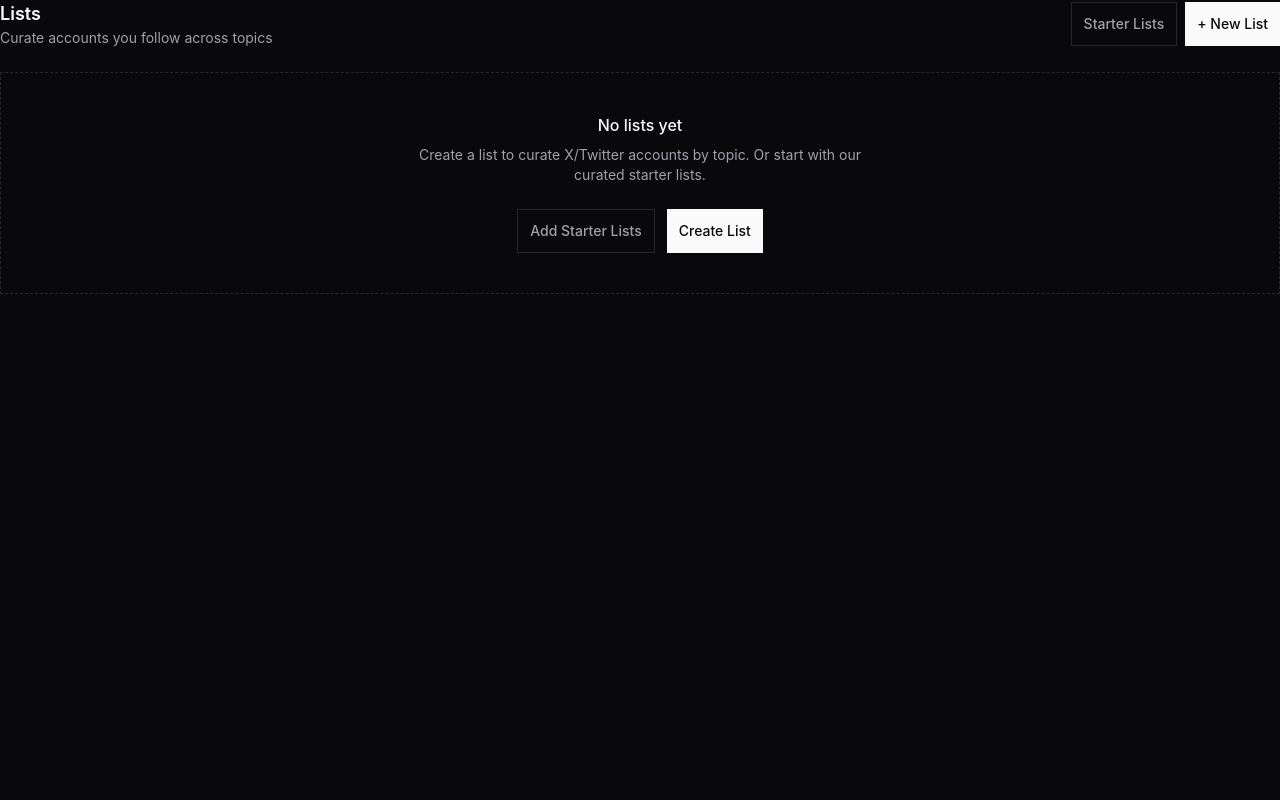
Test: ListsPage › opens new list modal and creates a list
Click the button "+ New List" at {"x": 1233, "y": 24}, box [1185,2,1279,46]
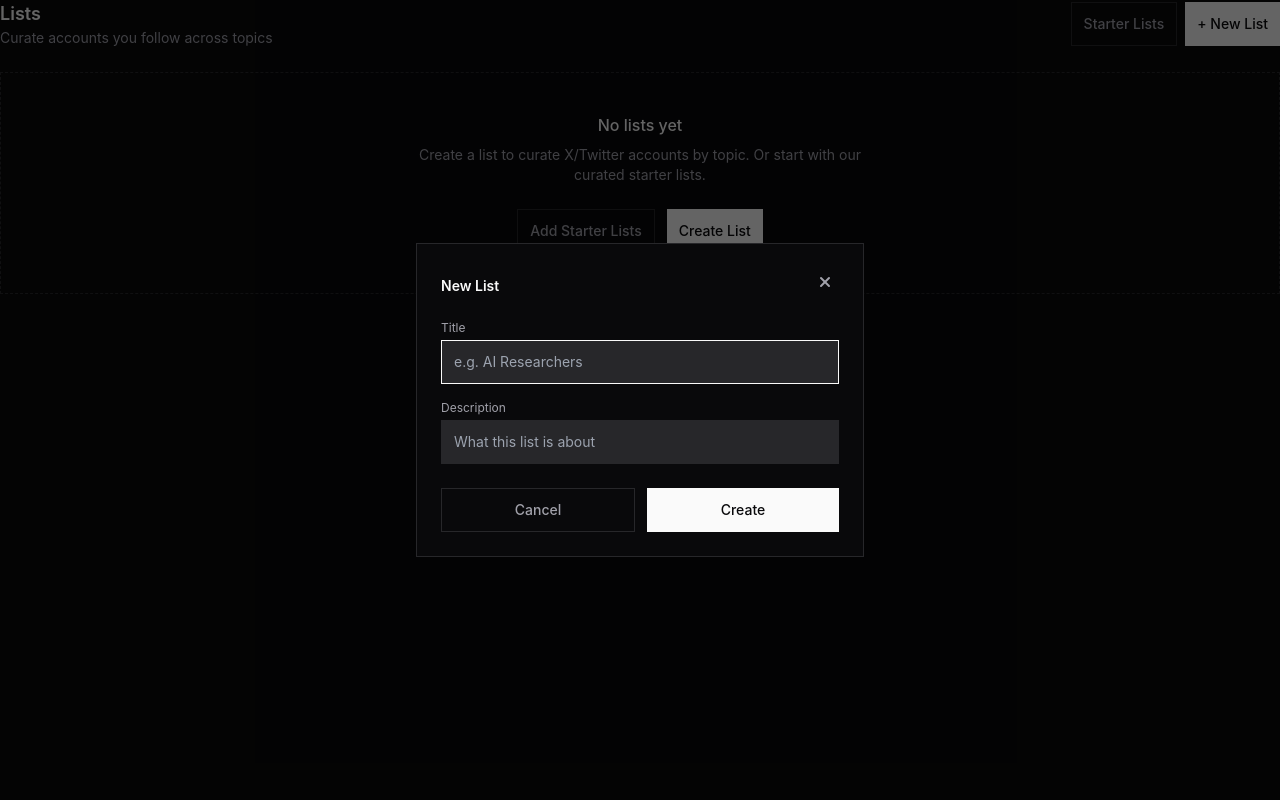
Expected: the heading "New List" is shown, [441,276,499,296]
Type "My Test List" into the field with test id "list-title-input" at {"x": 640, "y": 362}, box [441,340,839,384]
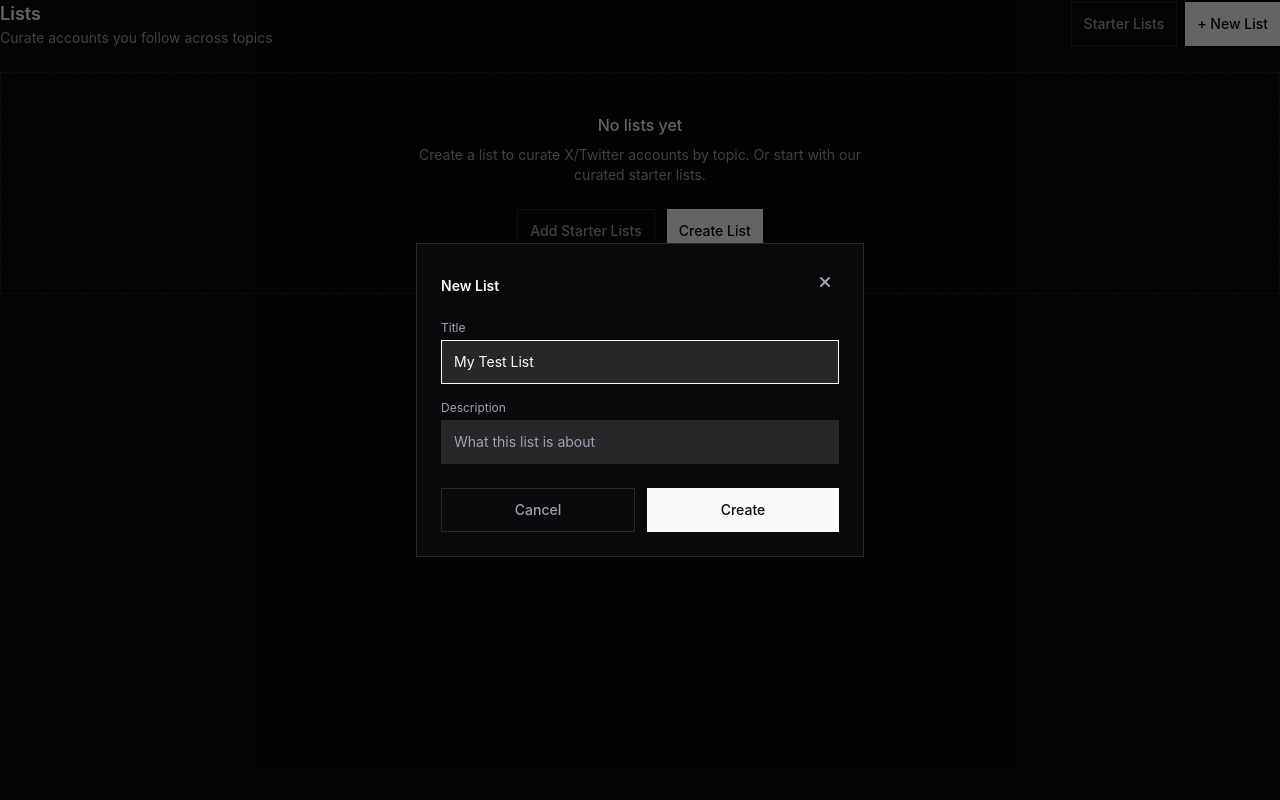
Click the button "Create" at {"x": 743, "y": 510}, box [647,488,839,532]
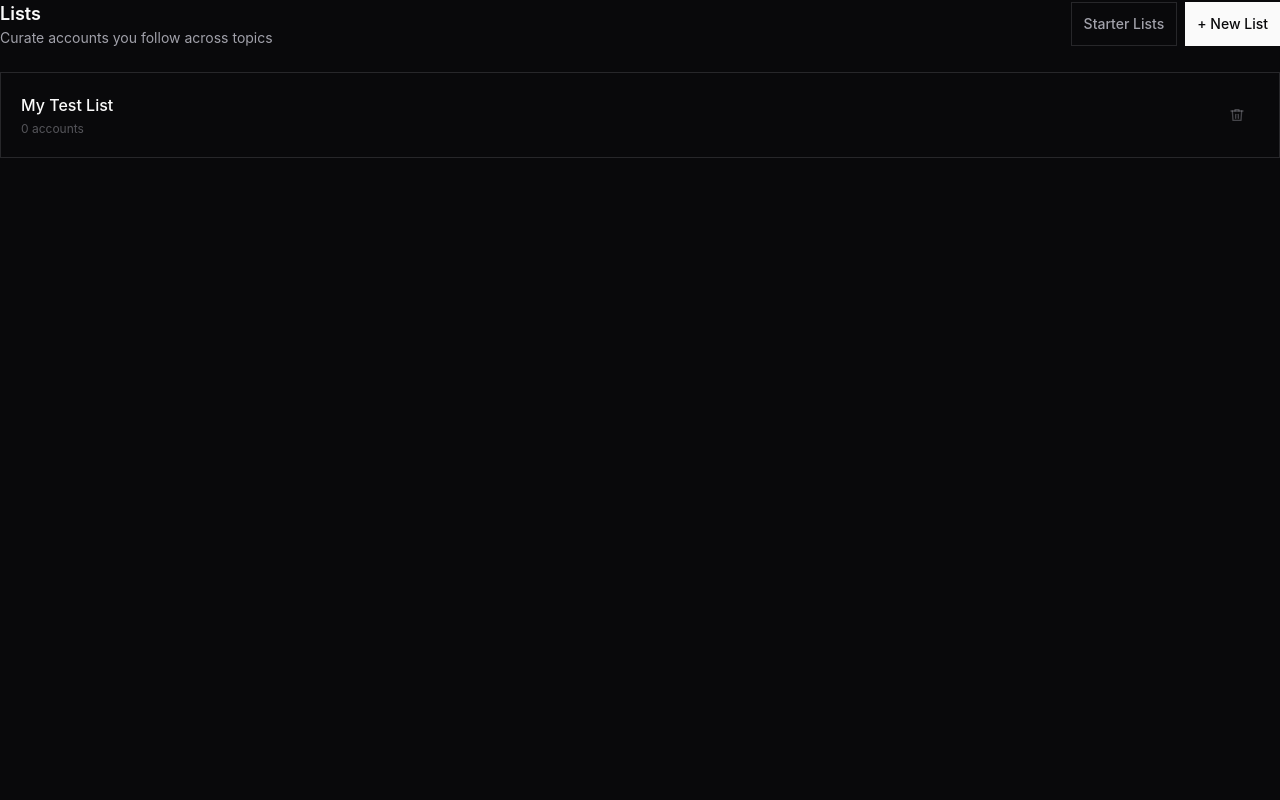
Expected: the heading "My Test List" is shown, [21,93,113,117]
